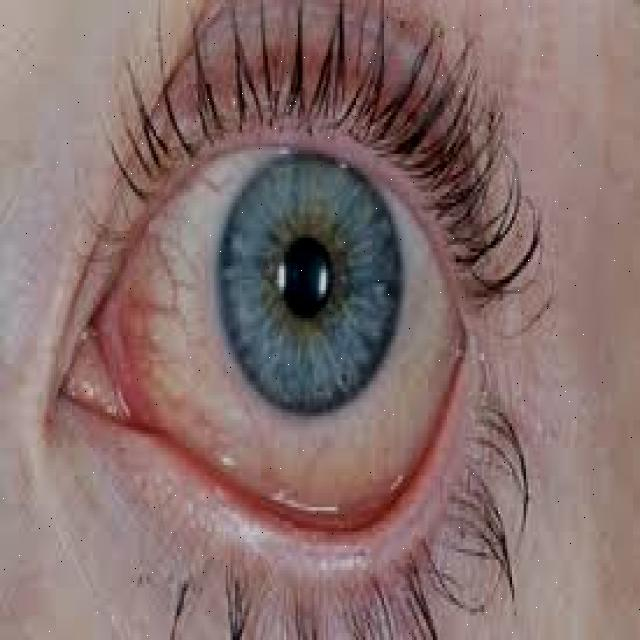Conjunctivitis: (68, 201, 471, 498)
